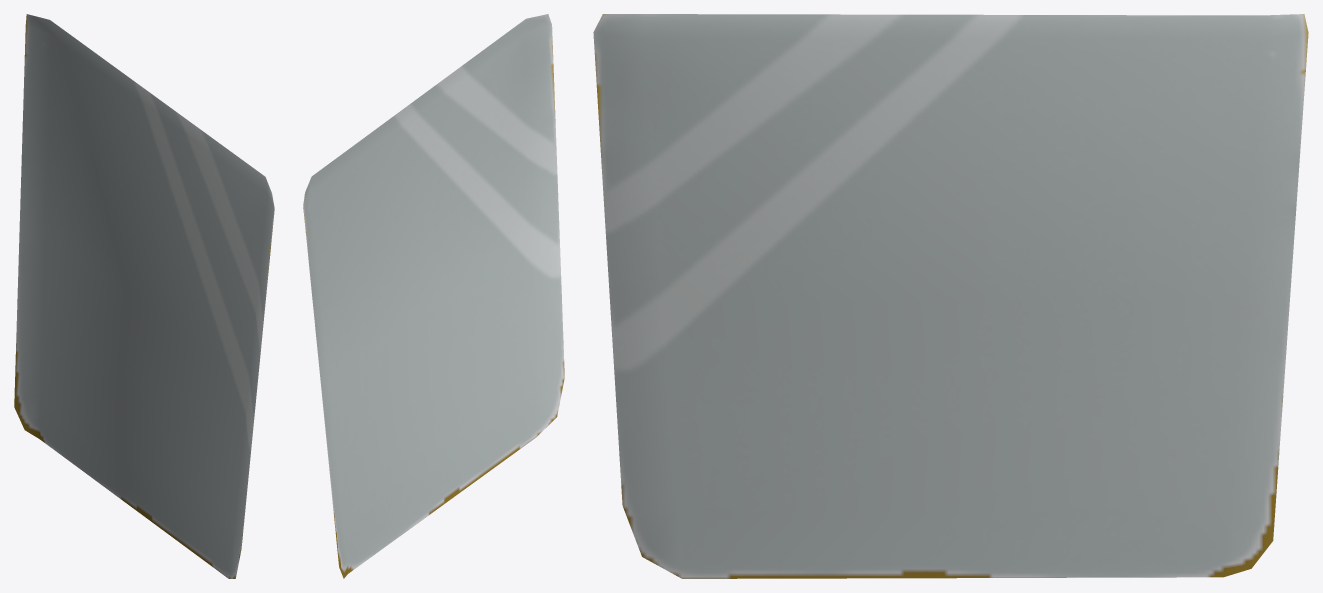
The model's file is GhostHunterWindow_SM.FBX.
The picture shows the model from 3 angles, left to right: view 1: azimuth 30°, elevation 25°; view 2: azimuth 150°, elevation 25°; view 3: azimuth 270°, elevation 25°; orthographic projection. The views are drawn at different scales.
Parts seen in each view (by area): view 1: Window; view 2: Window; view 3: Window.
Part boxes in pixels (x1=…): Window: x1=14, y1=14, x2=274, y2=578; Window: x1=303, y1=14, x2=564, y2=578; Window: x1=593, y1=14, x2=1308, y2=578.
Bounding box in the file's own units: 7.8 × 92.08 × 103.
